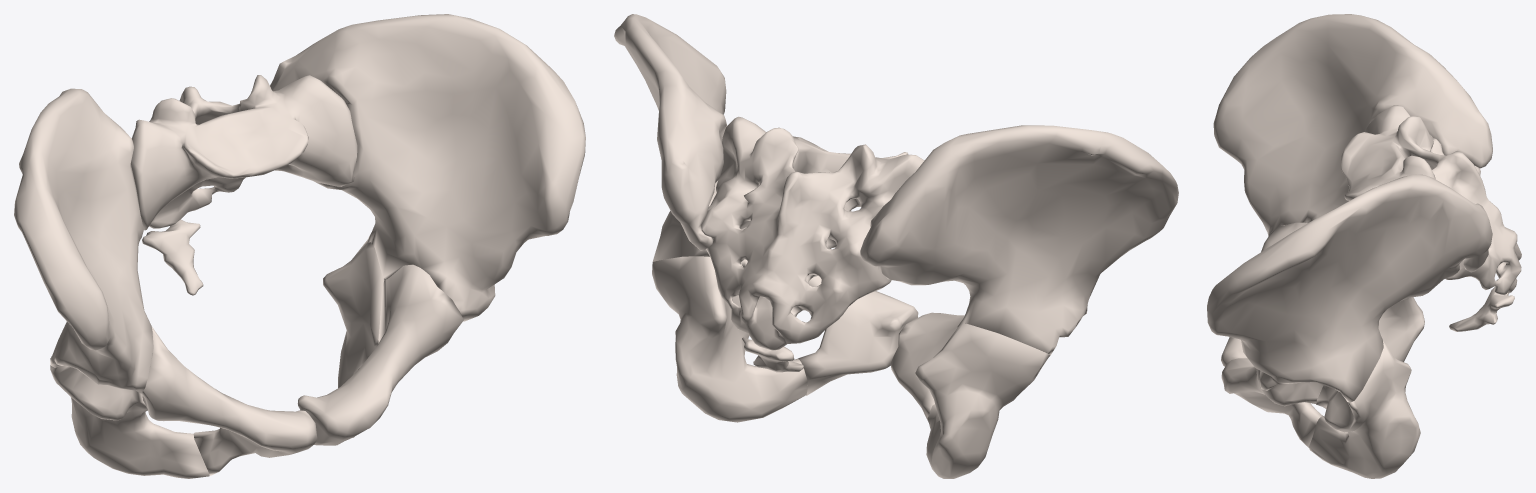
File: vh_f_pelvis.glb
3 views of the same model, side by side, from view 1: azimuth 30°, elevation 25°; view 2: azimuth 150°, elevation 25°; view 3: azimuth 270°, elevation 25° (orthographic). The views are drawn at different scales.
Parts seen in each view (by area): view 1: VH_F_ilium_compact_bone_L, VH_F_ilium_compact_bone_R, VH_F_sacrum, VH_F_pubis_compact_bone_L, VH_F_pubis_compact_bone_R, VH_F_ischium_compact_bone_R, VH_F_ischium_compact_bone_L, VH_F_coccyx; view 2: VH_F_ilium_compact_bone_R, VH_F_sacrum, VH_F_ilium_compact_bone_L, VH_F_ischium_compact_bone_L, VH_F_ischium_compact_bone_R, VH_F_pubis_compact_bone_L, VH_F_pubis_compact_bone_R, VH_F_coccyx; view 3: VH_F_ilium_compact_bone_L, VH_F_ilium_compact_bone_R, VH_F_sacrum, VH_F_ischium_compact_bone_L, VH_F_pubis_compact_bone_L, VH_F_ischium_compact_bone_R, VH_F_coccyx, VH_F_pubis_compact_bone_R.
Part boxes in pixels (x1,y1,x2,y2): VH_F_ilium_compact_bone_L: (270,14,585,321); VH_F_ilium_compact_bone_R: (14,88,153,393); VH_F_sacrum: (131,75,357,230); VH_F_pubis_compact_bone_L: (297,265,463,445); VH_F_pubis_compact_bone_R: (140,326,317,475); VH_F_ischium_compact_bone_R: (50,356,209,478); VH_F_ischium_compact_bone_L: (323,239,384,437); VH_F_coccyx: (142,219,203,295); VH_F_ilium_compact_bone_R: (860,125,1178,355); VH_F_sacrum: (701,116,924,350); VH_F_ilium_compact_bone_L: (614,14,746,261); VH_F_ischium_compact_bone_L: (652,256,807,422); VH_F_ischium_compact_bone_R: (915,323,1050,478); VH_F_pubis_compact_bone_L: (741,259,918,395); VH_F_pubis_compact_bone_R: (890,312,964,422); VH_F_coccyx: (742,337,803,372); VH_F_ilium_compact_bone_L: (1207,174,1492,402); VH_F_ilium_compact_bone_R: (1213,14,1492,236); VH_F_sacrum: (1341,105,1521,295); VH_F_ischium_compact_bone_L: (1309,341,1420,478); VH_F_pubis_compact_bone_L: (1221,358,1323,447); VH_F_ischium_compact_bone_R: (1378,297,1424,361); VH_F_coccyx: (1449,287,1514,331); VH_F_pubis_compact_bone_R: (1221,222,1307,366).
Bounding box in the file's own units: 0.3167 × 0.2119 × 0.1823.
